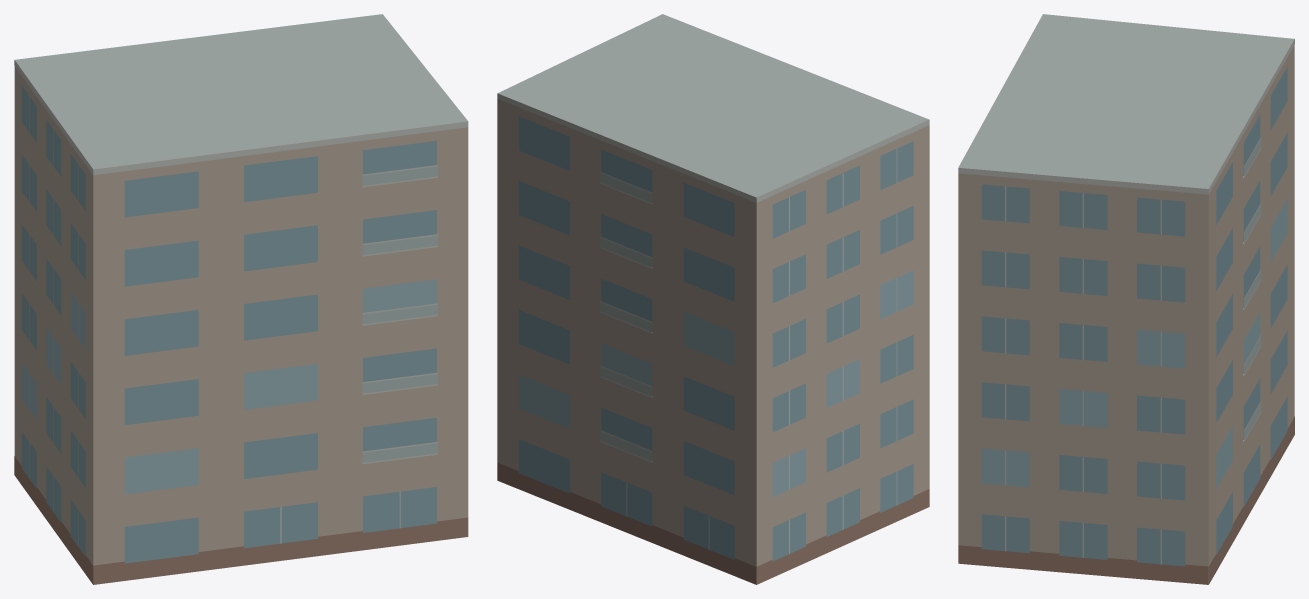
Rendered from survey-upis-32919007.glb.
The picture shows the model from 3 angles, left to right: view 1: azimuth 30°, elevation 25°; view 2: azimuth 150°, elevation 25°; view 3: azimuth 270°, elevation 25°; orthographic projection. The views are drawn at different scales.
Parts seen in each view (by area): view 1: survey-upis-32919007.tmp; view 2: survey-upis-32919007.tmp; view 3: survey-upis-32919007.tmp.
Boxes of the visible parts, <box> form: survey-upis-32919007.tmp: <box>14,14,468,584</box>; survey-upis-32919007.tmp: <box>497,14,929,584</box>; survey-upis-32919007.tmp: <box>958,14,1294,584</box>.
Size of the model in its own units: 16.61 by 17.5 by 13.5.
